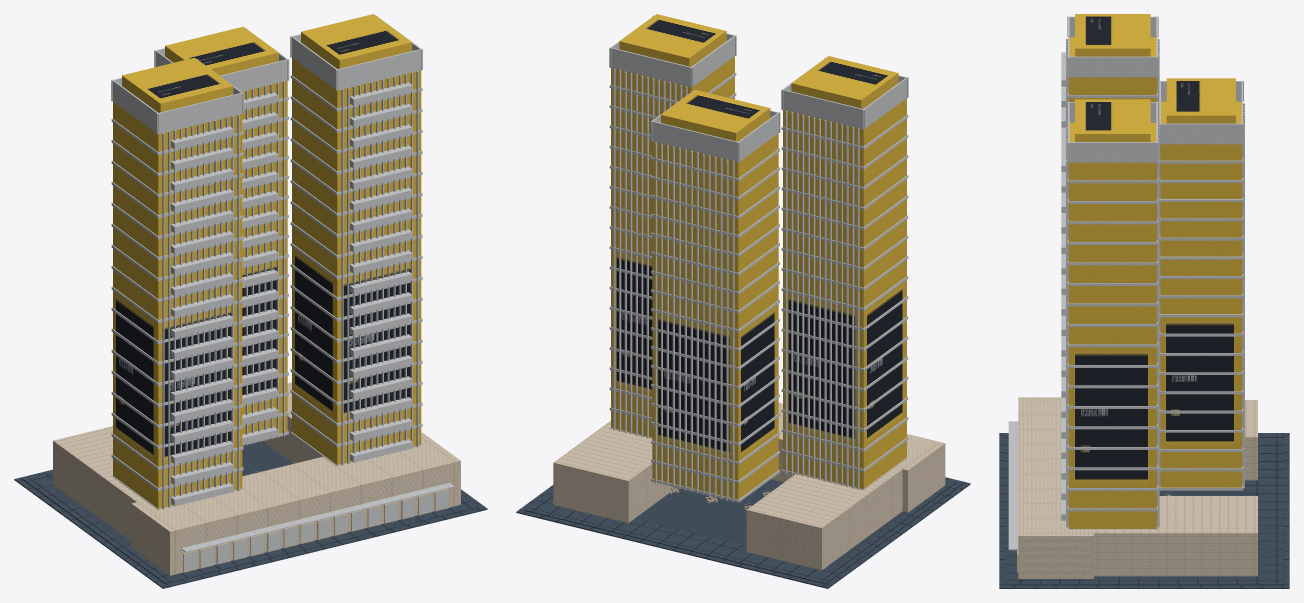
The picture shows the model from 3 angles, left to right: view 1: azimuth 30°, elevation 25°; view 2: azimuth 150°, elevation 25°; view 3: azimuth 270°, elevation 25°; orthographic projection. The views are drawn at different scales.
Visible parts, largest first — view 1: 28185_01_21998_008_03__spandrels_louvers, 28185_01_21998_008_02__residential_towers, 28185_01_21998_008_04__commercial_podium, 28185_01_21998_008_01__plaza_promenade_base; view 2: 28185_01_21998_008_02__residential_towers, 28185_01_21998_008_03__spandrels_louvers, 28185_01_21998_008_04__commercial_podium, 28185_01_21998_008_01__plaza_promenade_base; view 3: 28185_01_21998_008_02__residential_towers, 28185_01_21998_008_03__spandrels_louvers, 28185_01_21998_008_04__commercial_podium, 28185_01_21998_008_01__plaza_promenade_base.
Part boxes in pixels (box(x1,y1,x2,y2)): 28185_01_21998_008_03__spandrels_louvers: box(111, 15, 454, 571); 28185_01_21998_008_02__residential_towers: box(113, 14, 421, 508); 28185_01_21998_008_04__commercial_podium: box(53, 382, 460, 575); 28185_01_21998_008_01__plaza_promenade_base: box(14, 441, 487, 588); 28185_01_21998_008_02__residential_towers: box(611, 14, 906, 499); 28185_01_21998_008_03__spandrels_louvers: box(609, 15, 908, 502); 28185_01_21998_008_04__commercial_podium: box(553, 402, 945, 570); 28185_01_21998_008_01__plaza_promenade_base: box(516, 477, 970, 588); 28185_01_21998_008_02__residential_towers: box(1068, 14, 1242, 528); 28185_01_21998_008_03__spandrels_louvers: box(1008, 16, 1244, 550); 28185_01_21998_008_04__commercial_podium: box(1017, 397, 1257, 578); 28185_01_21998_008_01__plaza_promenade_base: box(999, 433, 1289, 588).
Size of the model in its own units: 58 by 76.5 by 46.
4 materials, 4 textured.
